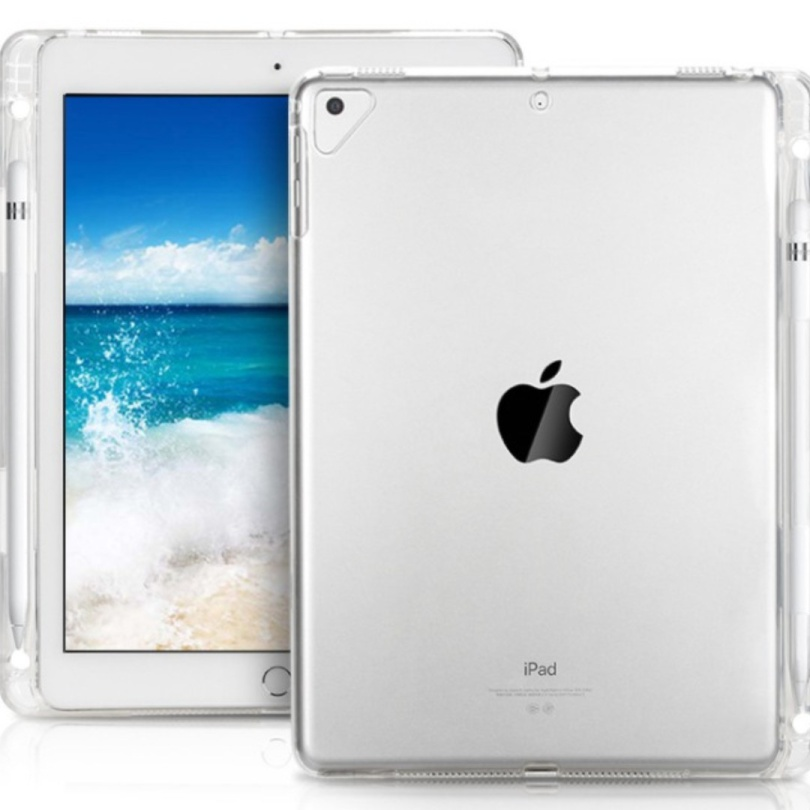apple: (466, 349, 644, 483)
